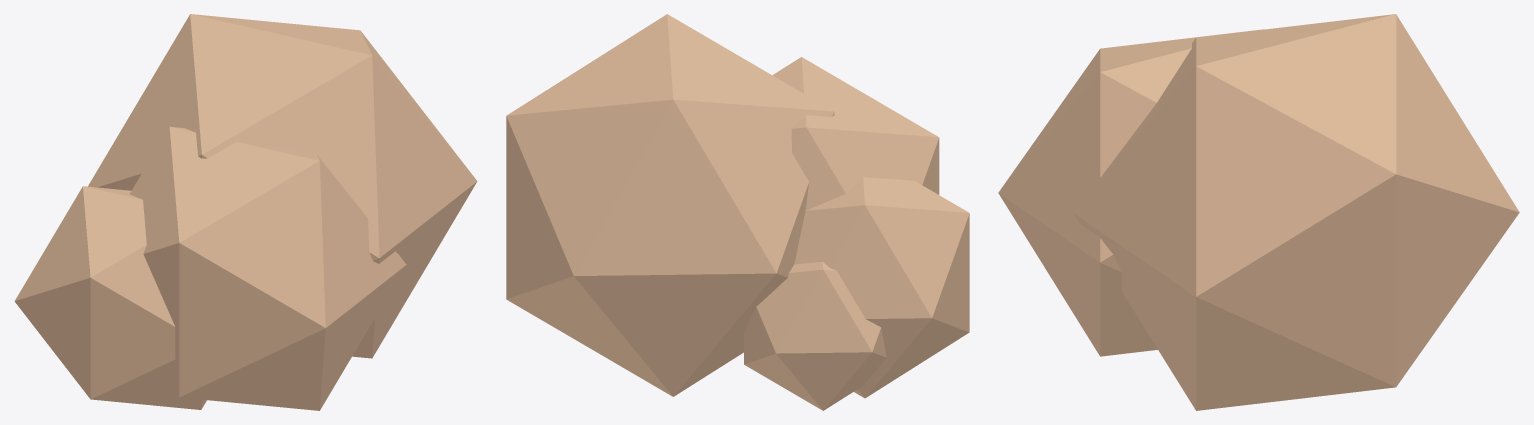
File: shell_1.glb
3 views of the same model, side by side, from view 1: azimuth 30°, elevation 25°; view 2: azimuth 150°, elevation 25°; view 3: azimuth 270°, elevation 25° (orthographic). The views are drawn at different scales.
Visible parts, largest first — view 1: Shell.001; view 2: Shell.001; view 3: Shell.001.
Boxes of the visible parts, left/top/right/bottom form: Shell.001: left=14, top=14, right=477, bottom=410; Shell.001: left=506, top=14, right=969, bottom=410; Shell.001: left=998, top=14, right=1519, bottom=410.
Size of the model in its own units: 0.3938 by 0.2722 by 0.3732.
